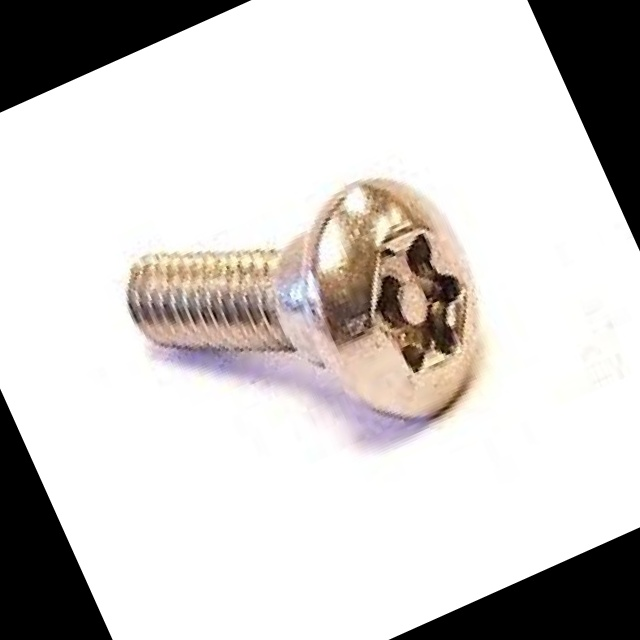torx: (264, 150, 521, 447)
